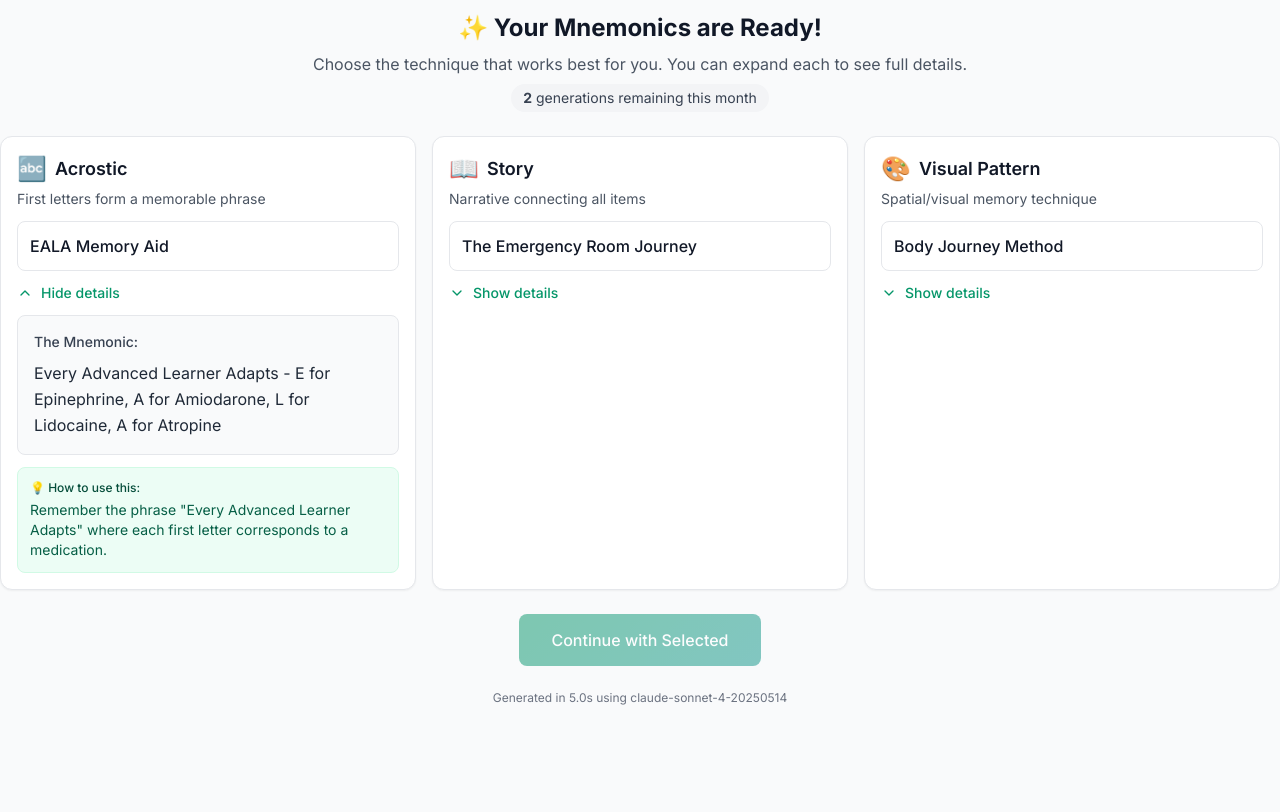
Test case: MnemonicSelectionView › Scenario 1: Select mnemonic (happy path) › should enable continue button after selection
Expected: the button "Continue with Selected" is disabled, [520,614,760,666]
# Select a card
Click the radio button labelled "Story".
click(640, 363)  # box [432,136,848,590]
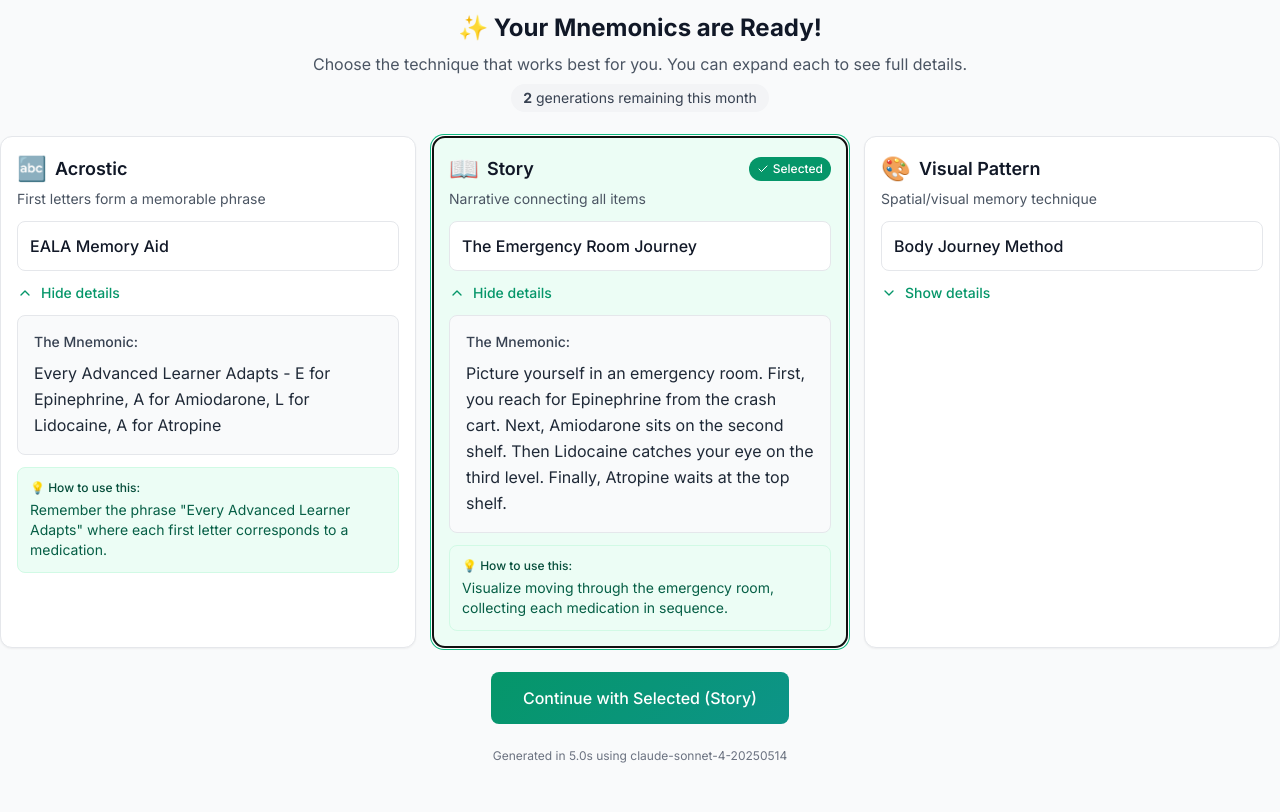
Expected: the button "Continue with Selected (Story)" is enabled, [491,672,789,724]
